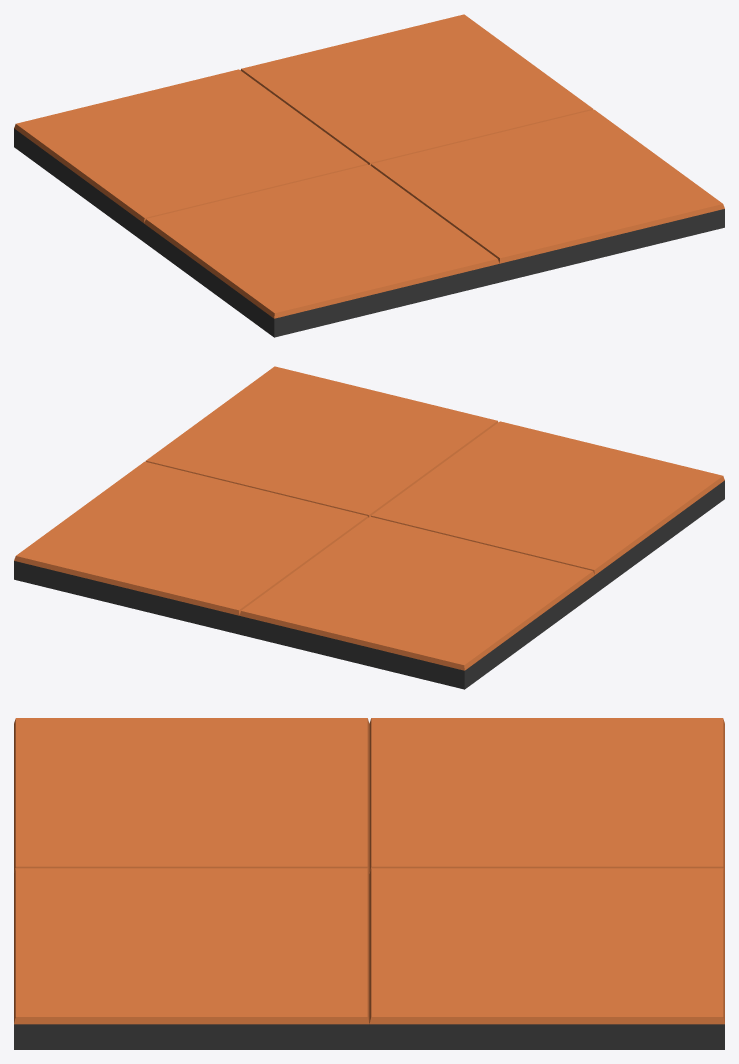
Rendered from Playground Ground.fbx.
3 renders of one model, top to bottom at view 1: azimuth 30°, elevation 25°; view 2: azimuth 150°, elevation 25°; view 3: azimuth 270°, elevation 25°, orthographic. The views are drawn at different scales.
Visible parts, largest first — view 1: Playground Ground; view 2: Playground Ground; view 3: Playground Ground.
Boxes of the visible parts, bbox=[...] form: Playground Ground: bbox=[14, 14, 724, 337]; Playground Ground: bbox=[14, 366, 724, 689]; Playground Ground: bbox=[14, 718, 724, 1049].
Size of the model in its own units: 400 by 20 by 400.
